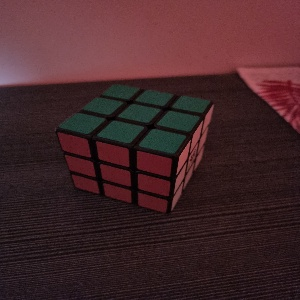cube: (55, 84, 215, 214)
